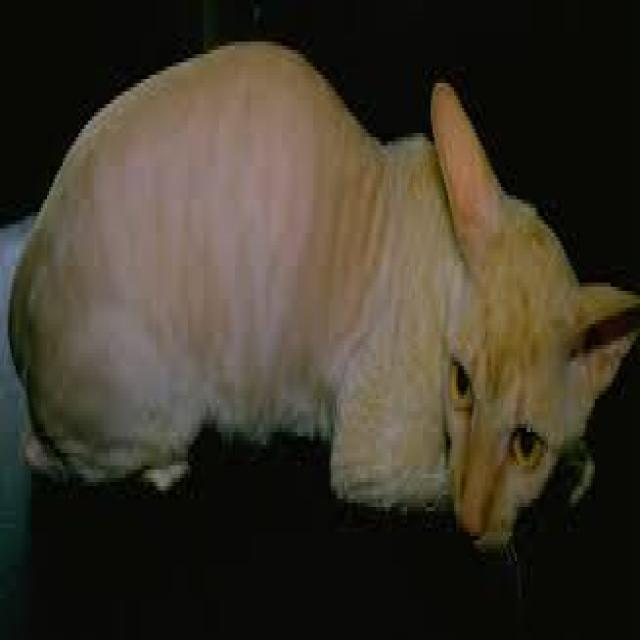cat-hairloss: (102, 155, 290, 398)
